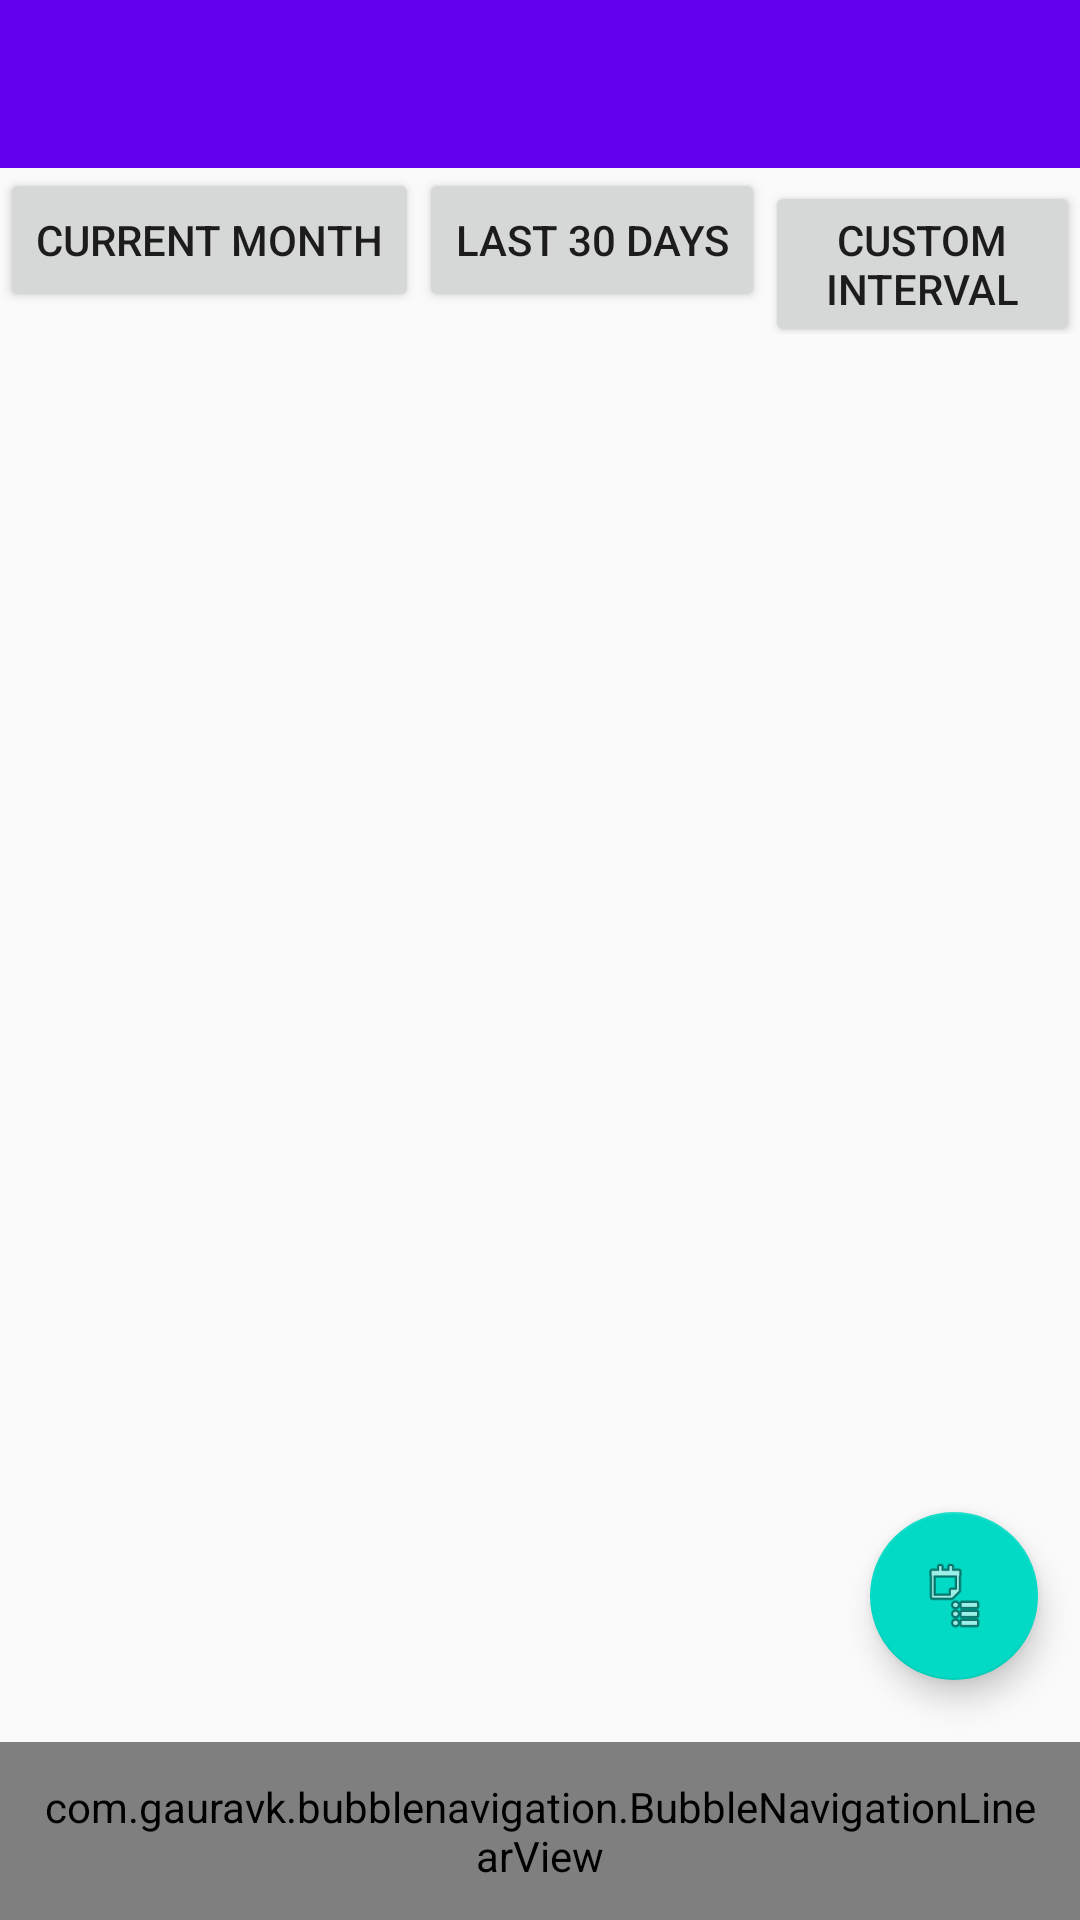

Icon click points for this 1080×1920 phone screenshot, format (x,y):
agenda: (954,1596)
